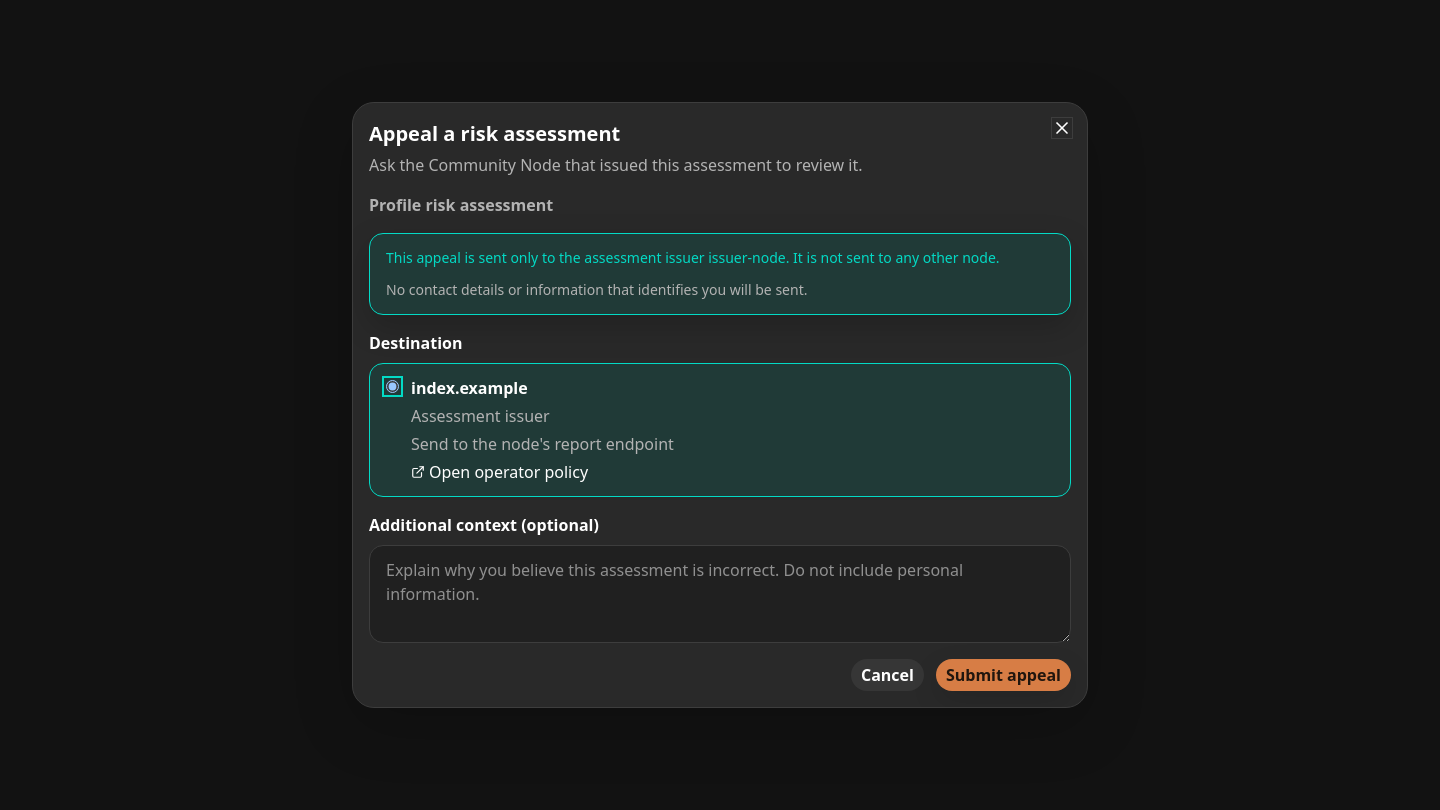
Test: uses the appeal presentation, omits contact, and confirms the disputed signal
This screenshot has width=1440, height=810.
Expected: the heading "Appeal a risk assessment" is shown, [369,120,620,147]
What coordinates should you click on to do the following:
click the button "Submit appeal"
I would click on:
 (1003, 675)
Its box is [936,659,1071,691].
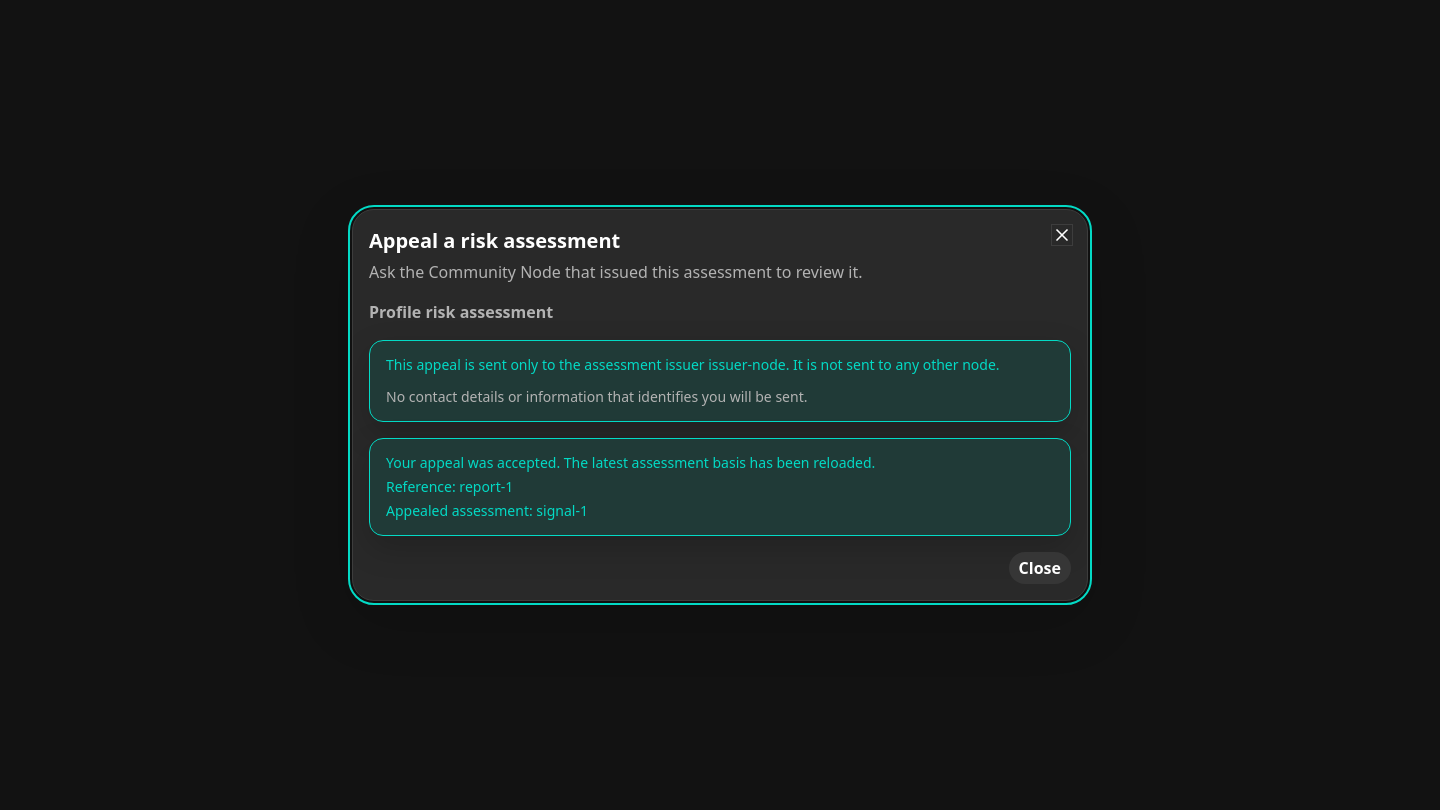
Expected: the text "Appealed assessment: signal-1" is shown, [386,501,588,520]
